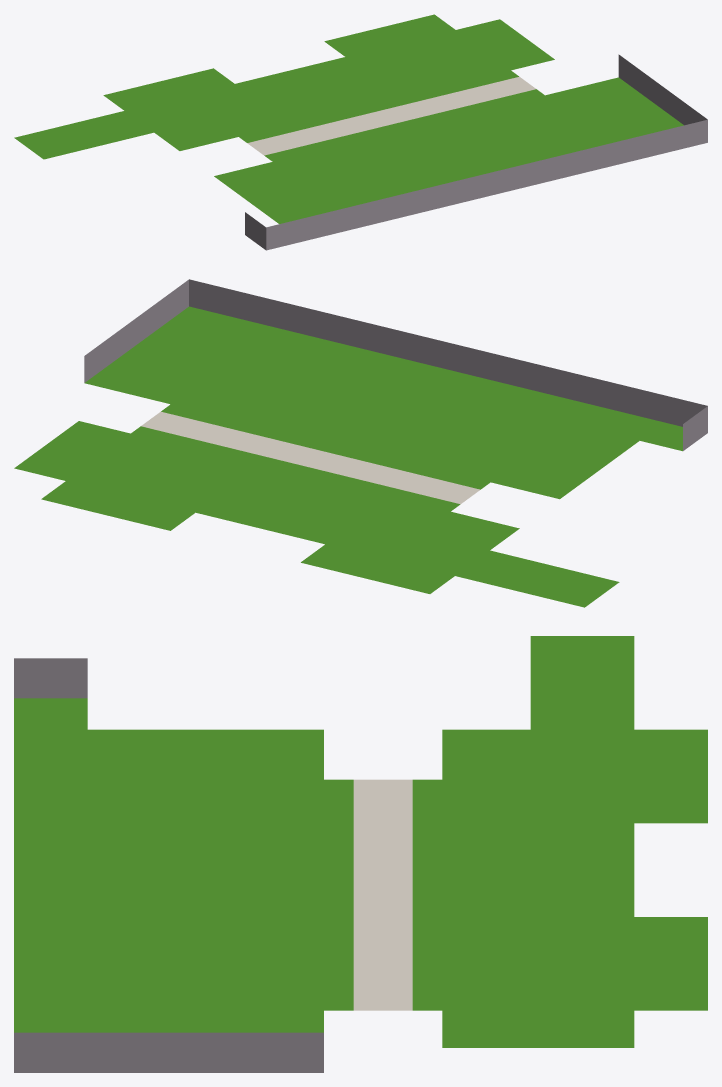
Rendered from courtyard.dae.
The picture shows the model from 3 angles, top to bottom: view 1: azimuth 30°, elevation 25°; view 2: azimuth 150°, elevation 25°; view 3: azimuth 270°, elevation 25°; orthographic projection. The views are drawn at different scales.
Parts seen in each view (by area): view 1: $dummy_node (×3); view 2: $dummy_node (×3); view 3: $dummy_node (×3).
Boxes of the visible parts, bbox=[...] form: $dummy_node (×3): bbox=[14, 14, 707, 250]; $dummy_node (×3): bbox=[14, 279, 707, 607]; $dummy_node (×3): bbox=[14, 636, 707, 1072].
Bounding box in the file's own units: 70 × 3 × 47.
